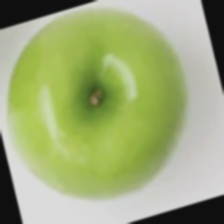apple: (35, 49, 192, 208)
